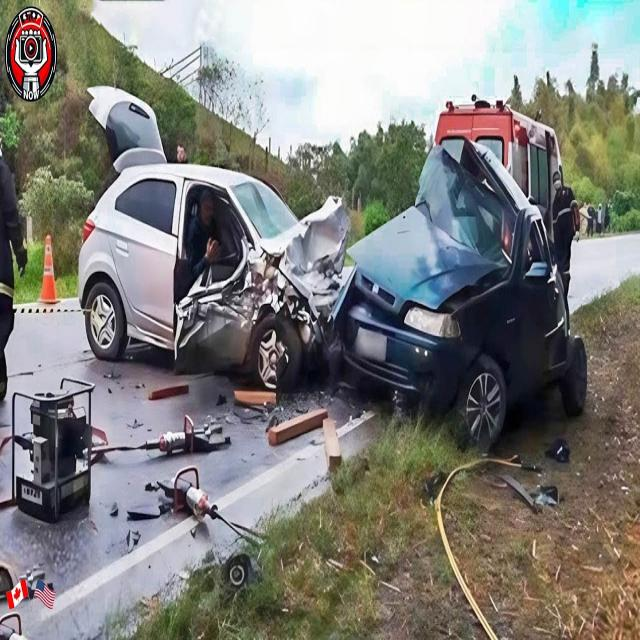Accident: (75, 71, 590, 453)
